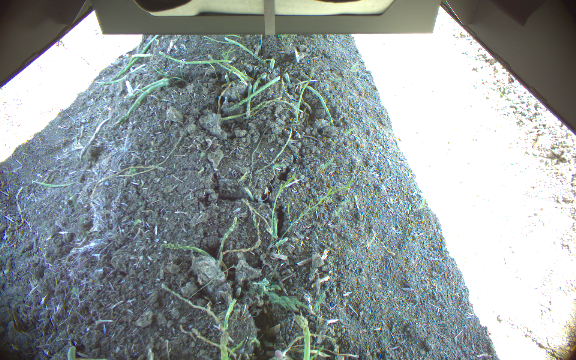aspa: (292, 314, 313, 360), (218, 331, 229, 360), (273, 348, 284, 360)
